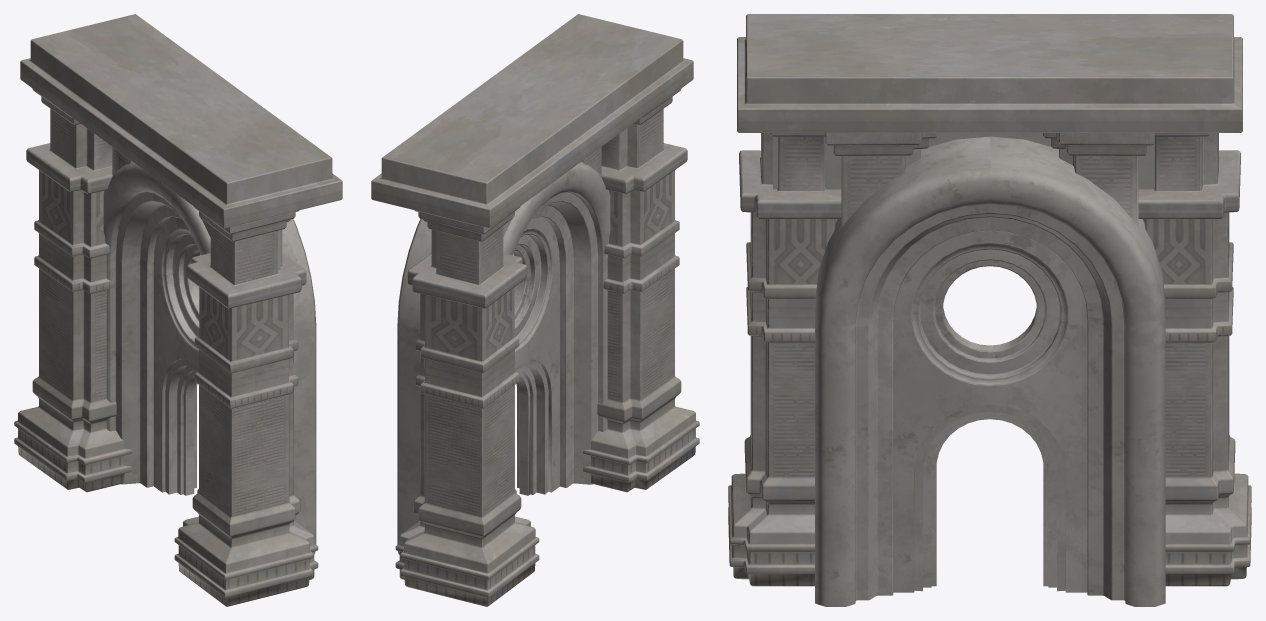
Rendered from SM_Door_01.fbx.
The picture shows the model from 3 angles, left to right: view 1: azimuth 30°, elevation 25°; view 2: azimuth 150°, elevation 25°; view 3: azimuth 270°, elevation 25°; orthographic projection. The views are drawn at different scales.
Parts seen in each view (by area): view 1: SM_Door_01_LOD0; view 2: SM_Door_01_LOD0; view 3: SM_Door_01_LOD0.
Boxes of the visible parts, x1=… form: SM_Door_01_LOD0: x1=14, y1=14, x2=342, y2=606; SM_Door_01_LOD0: x1=371, y1=14, x2=699, y2=606; SM_Door_01_LOD0: x1=728, y1=14, x2=1251, y2=606.
Bounding box in the file's own units: 326 × 912 × 1000.
2 materials, 2 textured.
